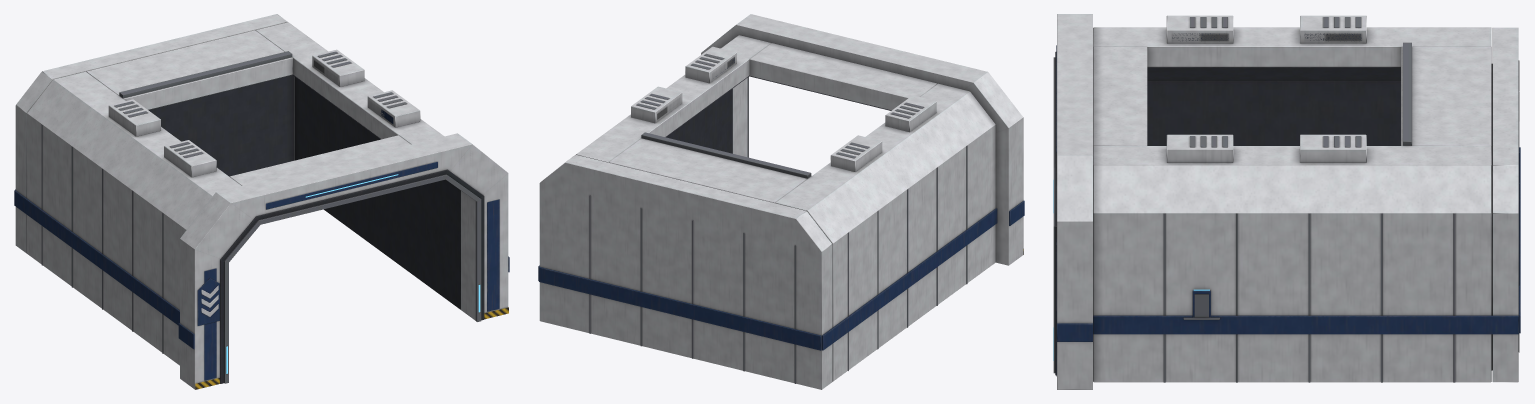
Rendered from 整備庫_42_戰艦庫_殼.glb.
3 views of the same model, side by side, from view 1: azimuth 30°, elevation 25°; view 2: azimuth 150°, elevation 25°; view 3: azimuth 270°, elevation 25° (orthographic). The views are drawn at different scales.
Parts seen in each view (by area): view 1: Hall_shell_bay_Mesh; view 2: Hall_shell_bay_Mesh; view 3: Hall_shell_bay_Mesh.
Part boxes in pixels (bbox=[...]): Hall_shell_bay_Mesh: bbox=[14, 14, 509, 389]; Hall_shell_bay_Mesh: bbox=[538, 14, 1024, 389]; Hall_shell_bay_Mesh: bbox=[1053, 14, 1520, 389].
Bounding box in the file's own units: 48.4 × 26.36 × 51.63.
Materials: 2 (1 with a texture image).
